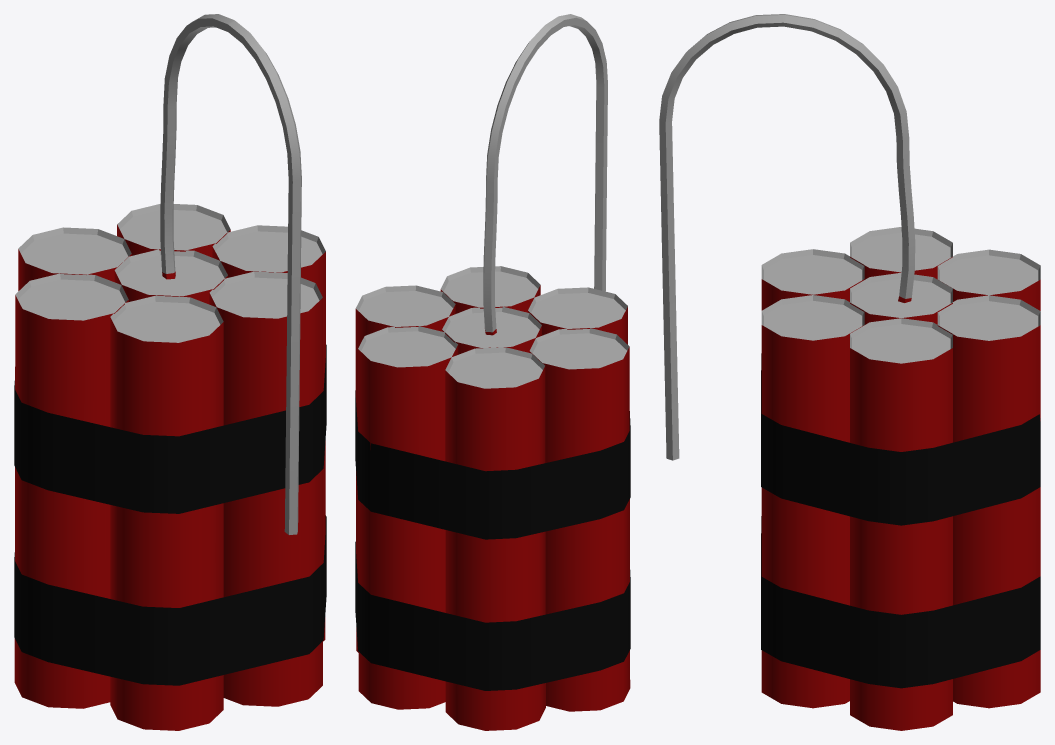
File: dynamite.FBX
The picture shows the model from 3 angles, left to right: view 1: azimuth 30°, elevation 25°; view 2: azimuth 150°, elevation 25°; view 3: azimuth 270°, elevation 25°; orthographic projection. The views are drawn at different scales.
Parts seen in each view (by area): view 1: dynamite; view 2: dynamite; view 3: dynamite.
Boxes of the visible parts, left/top/right/bottom form: dynamite: left=14, top=14, right=326, bottom=730; dynamite: left=355, top=14, right=630, bottom=730; dynamite: left=659, top=14, right=1040, bottom=730.
Size of the model in its own units: 4.73 by 10.43 by 5.56.
